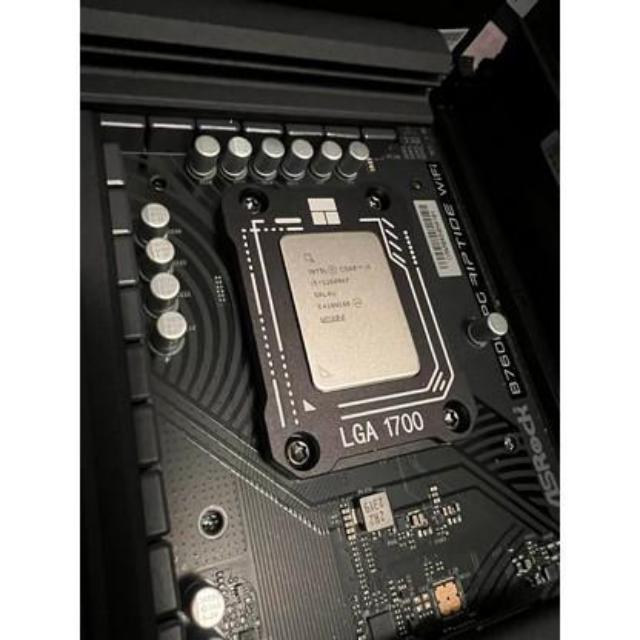CPU: (274, 223, 424, 394)
